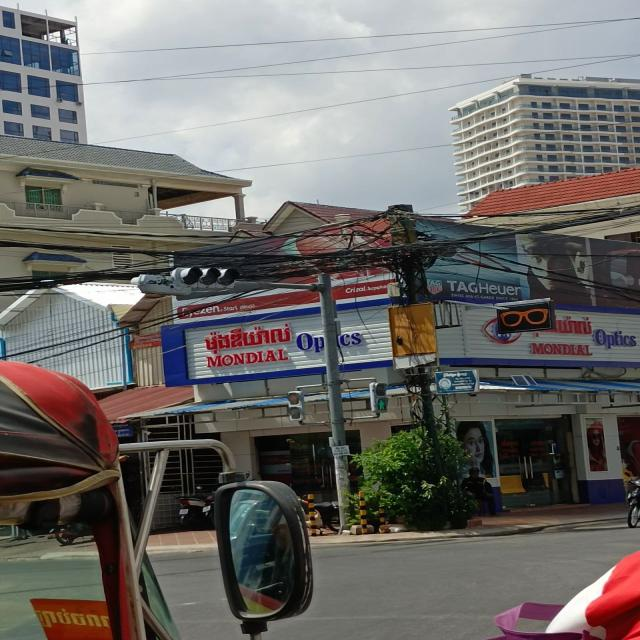Yolov11kh: (202, 319, 297, 356)
